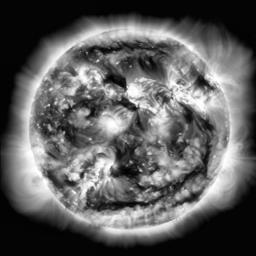solar flares: (79, 151, 111, 190), (100, 110, 123, 135), (78, 68, 103, 91), (150, 106, 167, 137), (167, 72, 186, 99), (142, 173, 181, 186), (150, 147, 171, 169), (185, 94, 207, 113), (125, 83, 145, 99), (104, 83, 120, 98)
sunspots: (90, 195, 149, 212), (113, 145, 140, 179), (85, 44, 173, 52), (60, 112, 78, 143), (189, 67, 207, 89), (141, 60, 161, 79), (114, 97, 138, 112), (47, 174, 77, 186), (130, 113, 146, 135), (200, 136, 210, 171), (78, 98, 98, 114), (105, 72, 124, 88), (171, 137, 184, 159), (41, 118, 56, 134), (181, 105, 192, 125), (182, 169, 196, 181), (181, 194, 199, 202), (199, 120, 212, 131)
